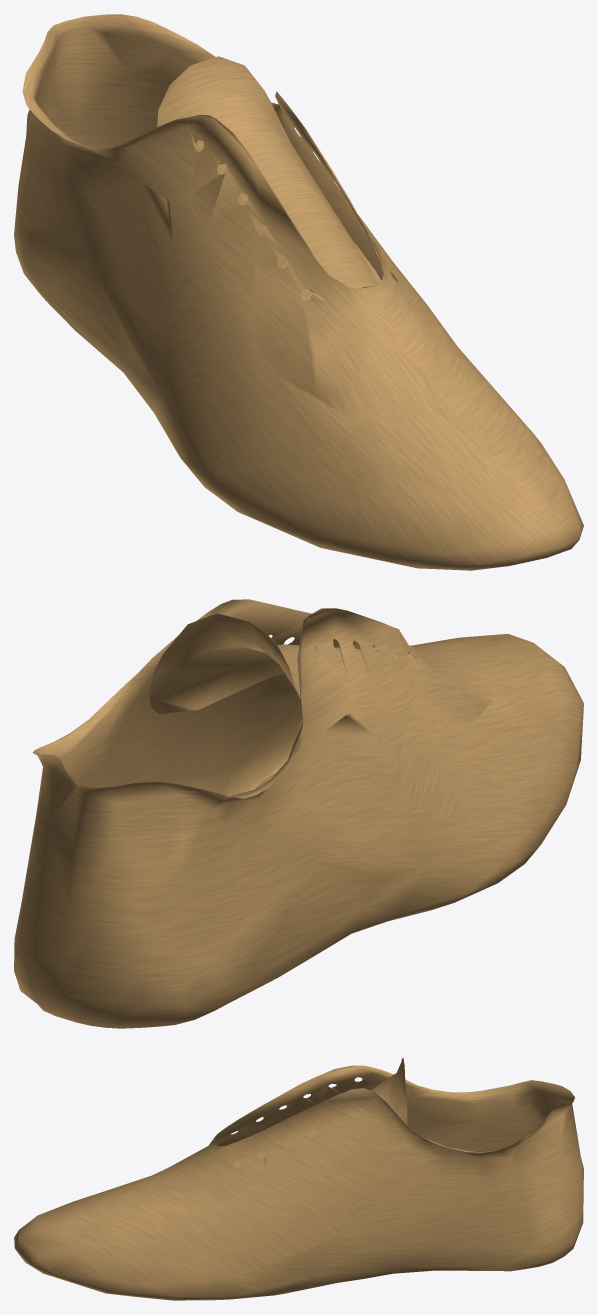
The model's file is shoein.obj.
The picture shows the model from 3 angles, top to bottom: view 1: azimuth 30°, elevation 25°; view 2: azimuth 150°, elevation 25°; view 3: azimuth 270°, elevation 25°; orthographic projection. The views are drawn at different scales.
Visible parts, largest first — view 1: shoeinner; view 2: shoeinner; view 3: shoeinner.
Part boxes in pixels (bbox=[...]): shoeinner: bbox=[14, 14, 583, 570]; shoeinner: bbox=[14, 599, 583, 1028]; shoeinner: bbox=[14, 1058, 583, 1300].
Size of the model in its own units: 3.28 by 3.75 by 9.67.
